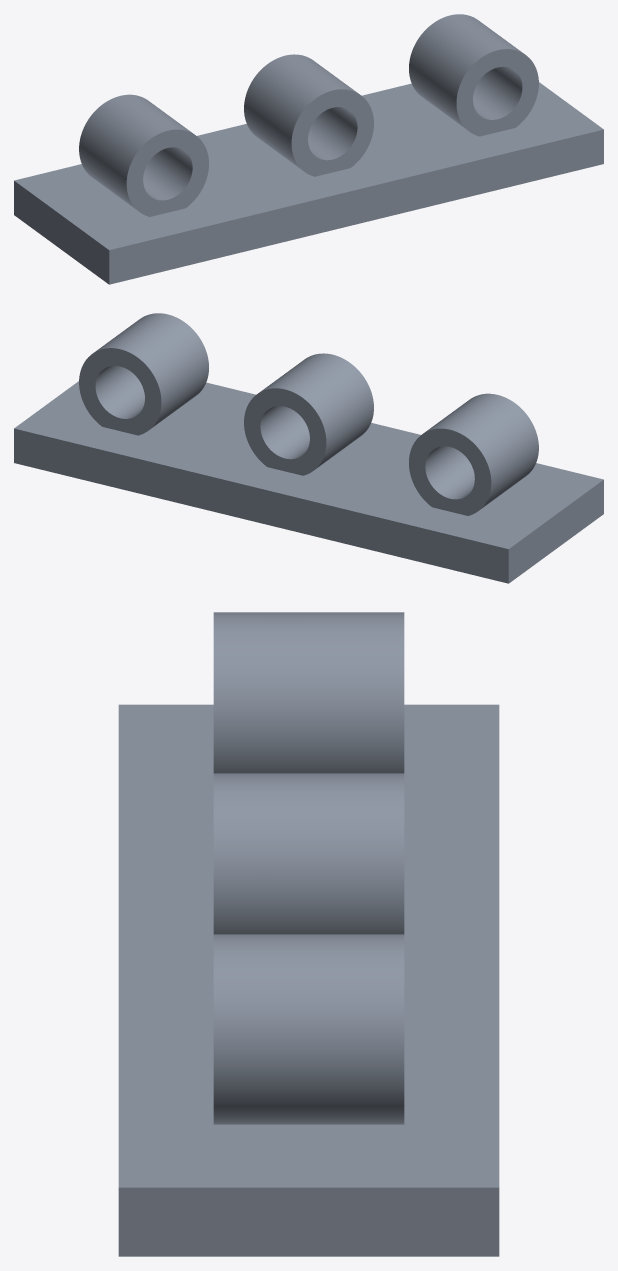
Rendered from step-1.glb.
3 views of the same model, one above another, from view 1: azimuth 30°, elevation 25°; view 2: azimuth 150°, elevation 25°; view 3: azimuth 270°, elevation 25° (orthographic). The views are drawn at different scales.
Visible parts, largest first — view 1: face_2a4a3ba46ca840c7b66c, face_2e47548f63e72c3dca35, face_b3b3171e938f2e2e45ca, face_6356f095ab4b7d5536f7, face_937b44169e18a1e8f280, face_41f1b08d80a013f17cc8, face_52bd2e15cfcbeb44442a, face_f5f2043f39814757c4e0, face_8664a2682e5a438b4f42, face_11d636c49340b4f1a941, face_9bf394f81bb9446e718b, face_5403799aa19867574626; view 2: face_2a4a3ba46ca840c7b66c, face_d9c998e2cacfaf4ae417, face_b3b3171e938f2e2e45ca, face_6356f095ab4b7d5536f7, face_937b44169e18a1e8f280, face_f76e8efecd189ee7d39d, face_732939311618bb5a4a1c, face_523cb17f99a2b64daa27, face_8664a2682e5a438b4f42, face_11d636c49340b4f1a941, face_9bf394f81bb9446e718b, face_5403799aa19867574626; view 3: face_2a4a3ba46ca840c7b66c, face_937b44169e18a1e8f280, face_b3b3171e938f2e2e45ca, face_6356f095ab4b7d5536f7, face_2c14b14e686f1e82f2b0.
Boxes of the visible parts, x1,y1,x2,y2 form: face_2a4a3ba46ca840c7b66c: [14, 82, 603, 250]; face_2e47548f63e72c3dca35: [109, 129, 603, 284]; face_b3b3171e938f2e2e45ca: [79, 94, 192, 210]; face_6356f095ab4b7d5536f7: [244, 54, 357, 169]; face_937b44169e18a1e8f280: [409, 14, 523, 130]; face_41f1b08d80a013f17cc8: [126, 129, 208, 216]; face_52bd2e15cfcbeb44442a: [291, 89, 373, 176]; face_f5f2043f39814757c4e0: [456, 49, 538, 136]; face_8664a2682e5a438b4f42: [14, 181, 109, 284]; face_11d636c49340b4f1a941: [143, 147, 192, 200]; face_9bf394f81bb9446e718b: [308, 107, 357, 160]; face_5403799aa19867574626: [473, 66, 522, 119]; face_2a4a3ba46ca840c7b66c: [14, 381, 603, 549]; face_d9c998e2cacfaf4ae417: [14, 428, 508, 583]; face_b3b3171e938f2e2e45ca: [425, 393, 538, 509]; face_6356f095ab4b7d5536f7: [260, 353, 373, 468]; face_937b44169e18a1e8f280: [94, 313, 208, 429]; face_f76e8efecd189ee7d39d: [409, 428, 491, 515]; face_732939311618bb5a4a1c: [244, 388, 326, 475]; face_523cb17f99a2b64daa27: [79, 348, 161, 435]; face_8664a2682e5a438b4f42: [508, 480, 603, 583]; face_11d636c49340b4f1a941: [425, 446, 474, 499]; face_9bf394f81bb9446e718b: [260, 406, 309, 459]; face_5403799aa19867574626: [95, 365, 144, 418]; face_2a4a3ba46ca840c7b66c: [118, 704, 499, 1187]; face_937b44169e18a1e8f280: [213, 934, 404, 1124]; face_b3b3171e938f2e2e45ca: [213, 612, 404, 773]; face_6356f095ab4b7d5536f7: [213, 773, 404, 934]; face_2c14b14e686f1e82f2b0: [118, 1187, 499, 1256].
Size of the model in its own units: 0.06 by 0.0135 by 0.02.
